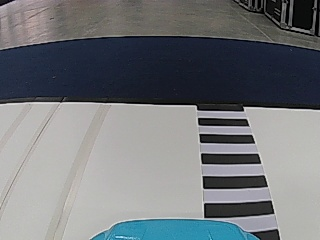CrossWalk: (195, 103, 277, 217)
